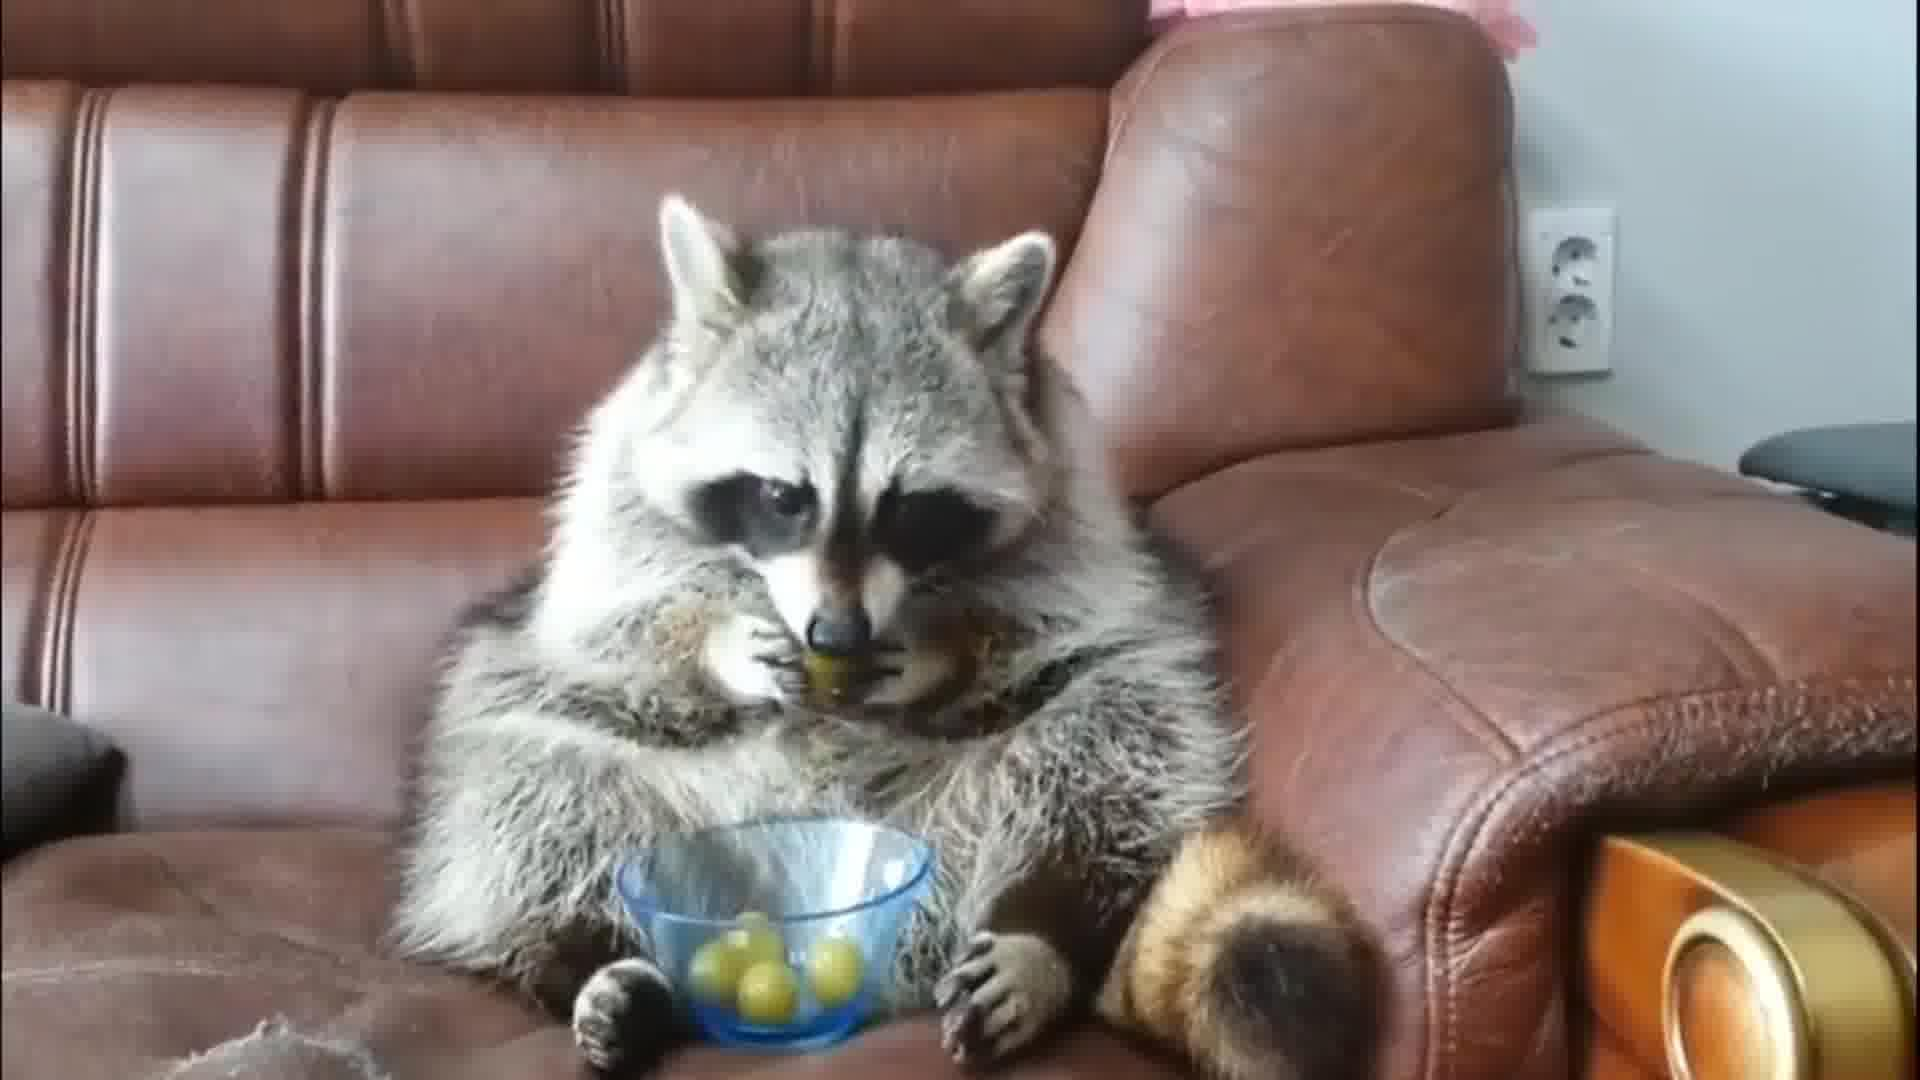raccoon: (378, 194, 1382, 1080)
